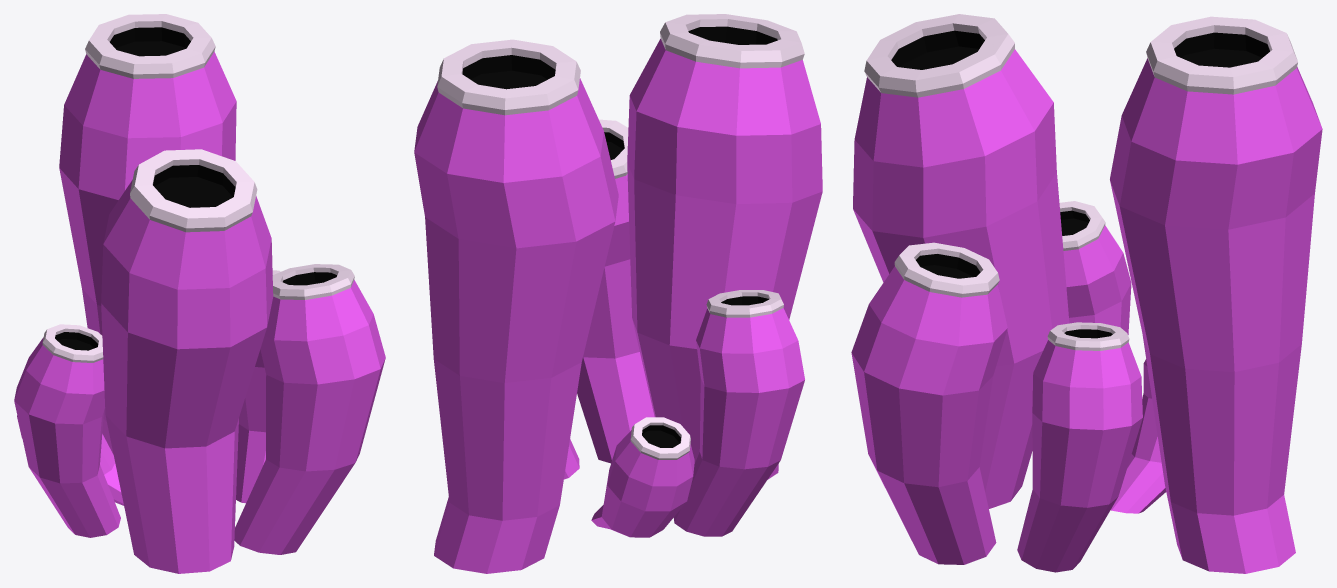
The model's file is Coral 2.glb.
3 renders of one model, left to right at view 1: azimuth 30°, elevation 25°; view 2: azimuth 150°, elevation 25°; view 3: azimuth 270°, elevation 25°, orthographic. The views are drawn at different scales.
Parts seen in each view (by area): view 1: Cylinder; view 2: Cylinder; view 3: Cylinder.
Part boxes in pixels (x1,y1,x2,y2): Cylinder: (14,14,385,573); Cylinder: (414,14,822,573); Cylinder: (851,14,1322,573).
Bounding box in the file's own units: 0.4813 × 0.6621 × 0.5642.
